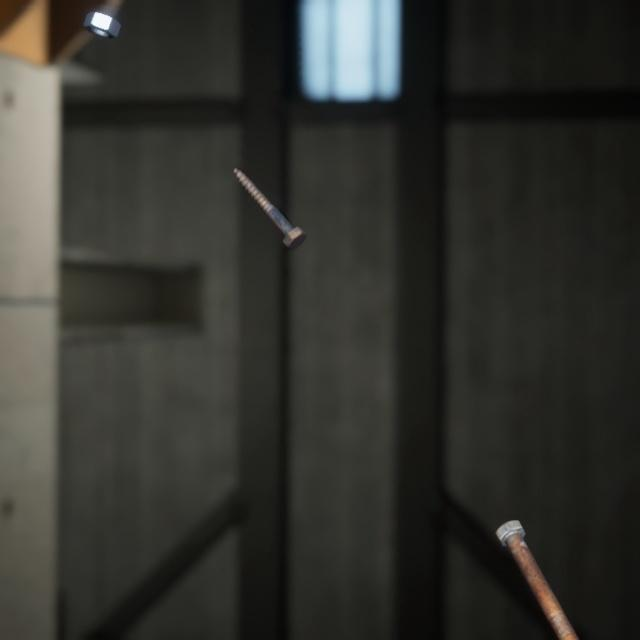bolt: (491, 493, 591, 640), (229, 148, 311, 238)
nut: (79, 0, 125, 34)
